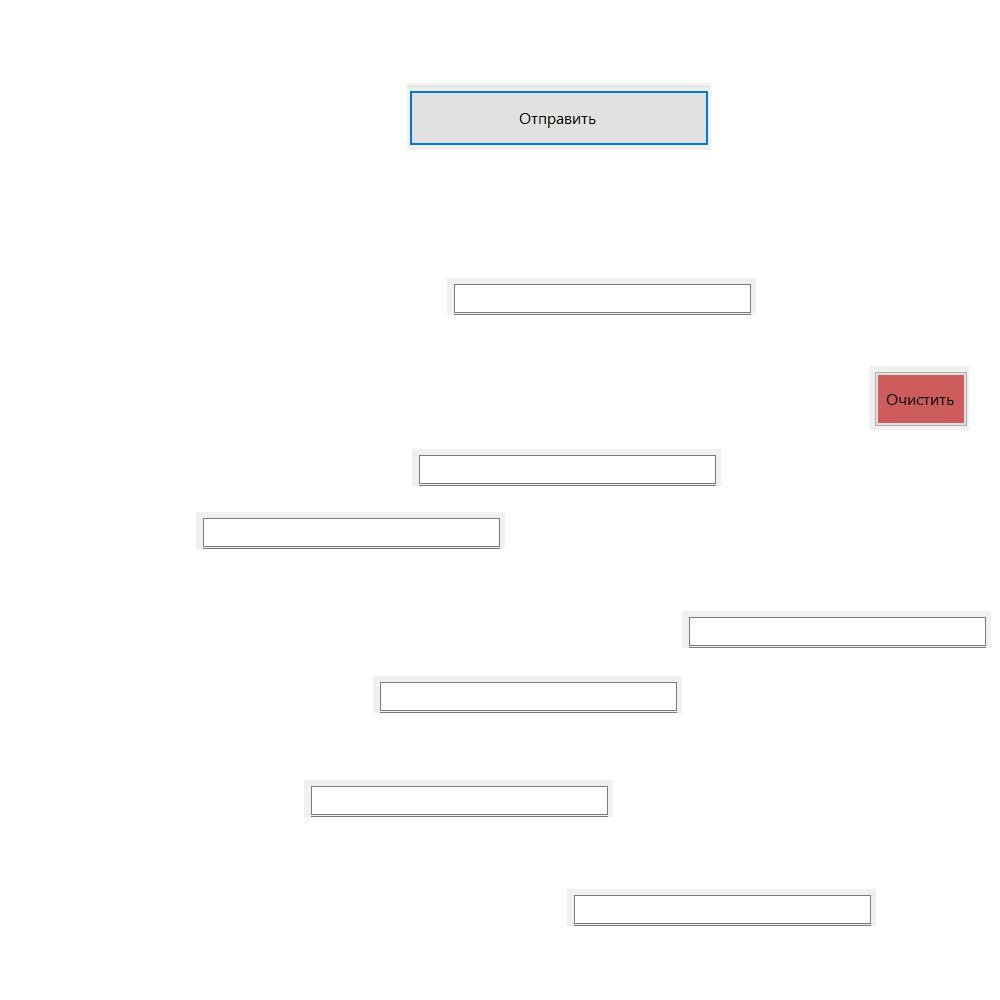Button: (407, 83, 711, 150), (869, 366, 969, 430)
EditText-: (447, 278, 756, 315), (567, 889, 876, 926), (682, 611, 991, 648), (373, 676, 682, 713), (196, 512, 505, 549), (412, 449, 721, 486), (304, 780, 613, 817)
